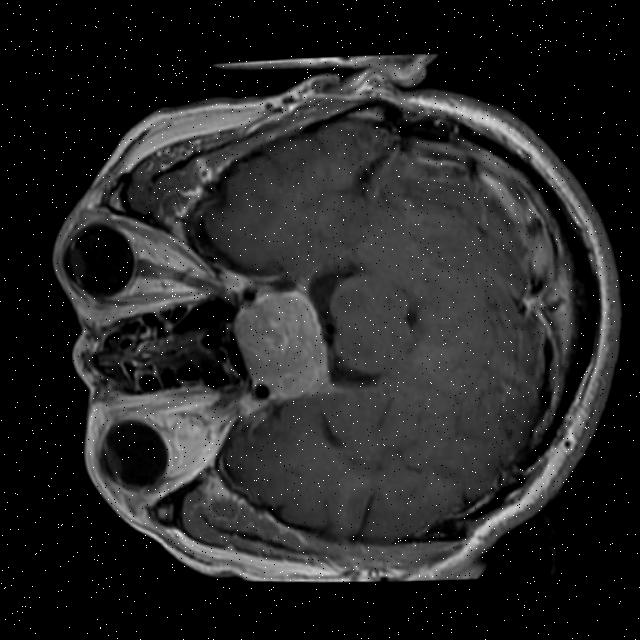Pituitary: (229, 290, 330, 384)
